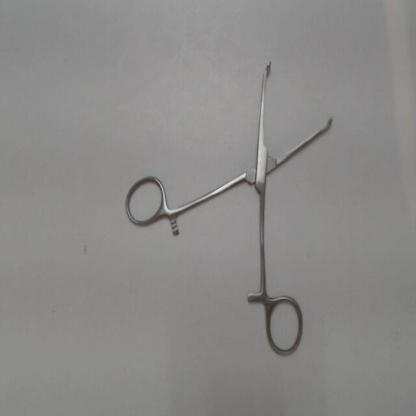Allis Tissue Forceps: (118, 49, 344, 364)
